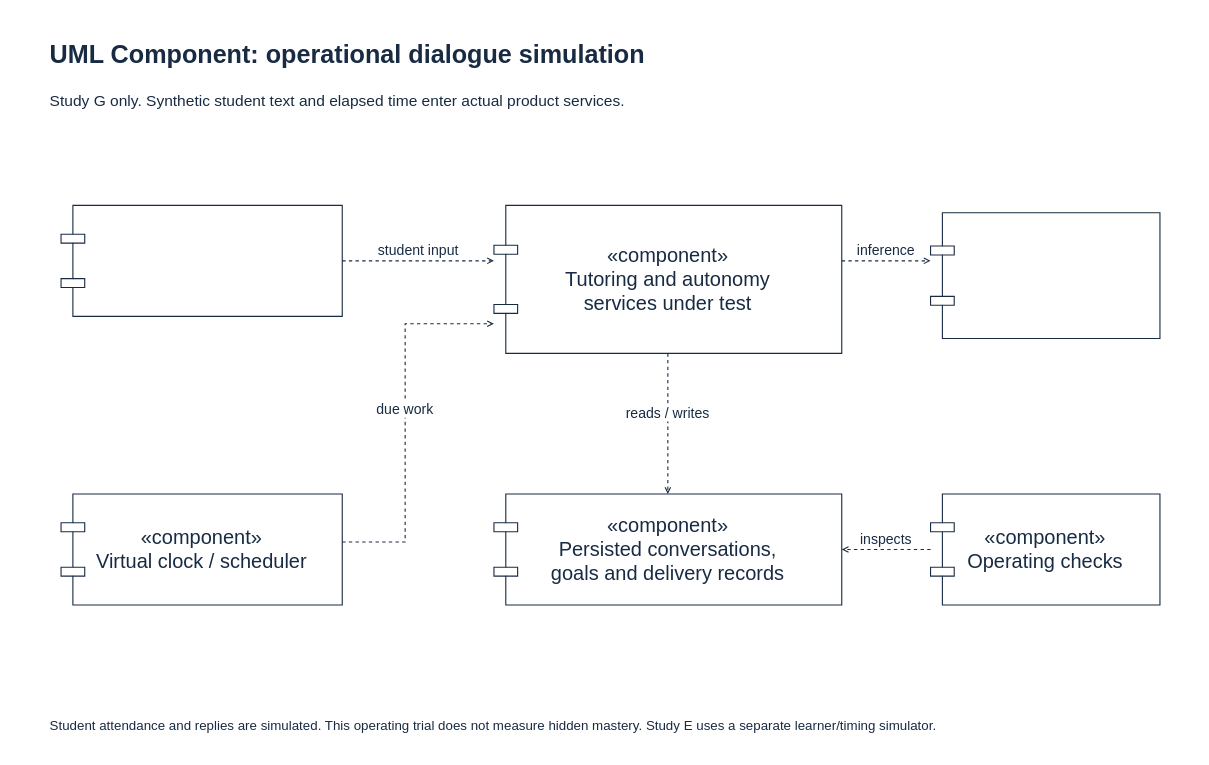
Some shapes in this 1209 by 765 pixel diagram are drawn without their labels. Here are the shapes that lost their labels. From the top down, the centre of each, then its label:
point (201, 260): «component» Synthetic student driver
point (1045, 275): «component» Configured model provider
